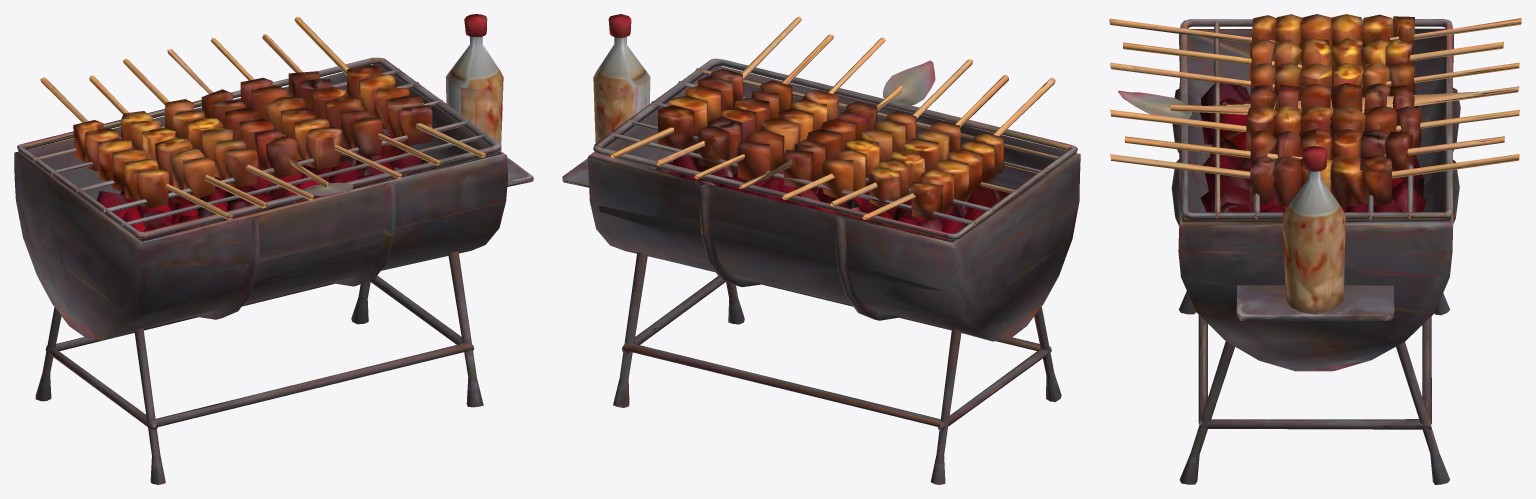
File: isaw-grill.glb
The picture shows the model from 3 angles, left to right: view 1: azimuth 30°, elevation 25°; view 2: azimuth 150°, elevation 25°; view 3: azimuth 270°, elevation 25°; orthographic projection. The views are drawn at different scales.
Visible parts, largest first — view 1: geometry_0; view 2: geometry_0; view 3: geometry_0.
Boxes of the visible parts, x1=… form: geometry_0: x1=14, y1=14, x2=533, y2=484; geometry_0: x1=562, y1=14, x2=1080, y2=484; geometry_0: x1=1109, y1=14, x2=1521, y2=484.
Bounding box in the file's own units: 1 × 0.7479 × 0.7705.
1 material, 1 textured.
